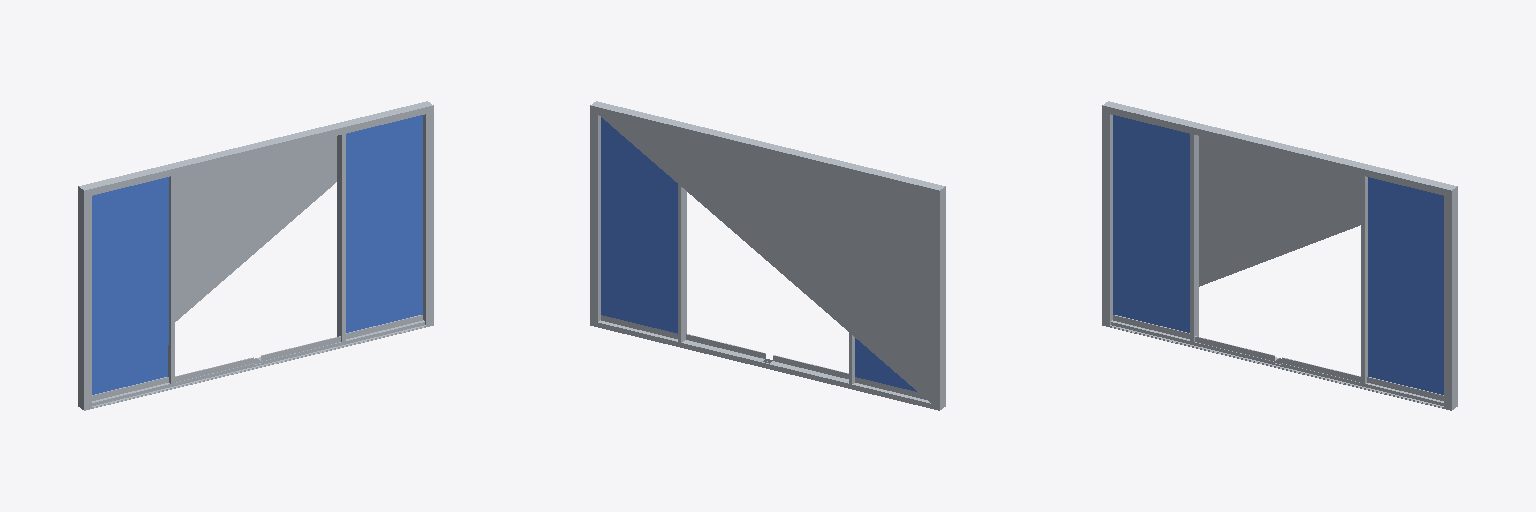
The model's file is janelaExterna.obj.
The picture shows the model from 3 angles: view 1: azimuth 30°, elevation 25°; view 2: azimuth 150°, elevation 25°; view 3: azimuth 330°, elevation 25°; orthographic projection.
Visible parts, largest first — view 1: Mesh1 Model; view 2: Mesh1 Model; view 3: Mesh1 Model.
Boxes of the visible parts, box(x1,y1,x2,y2) form: Mesh1 Model: box(78, 101, 433, 410); Mesh1 Model: box(590, 101, 945, 410); Mesh1 Model: box(1102, 101, 1457, 410).
Bounding box in the file's own units: 3618 × 2180 × 106.